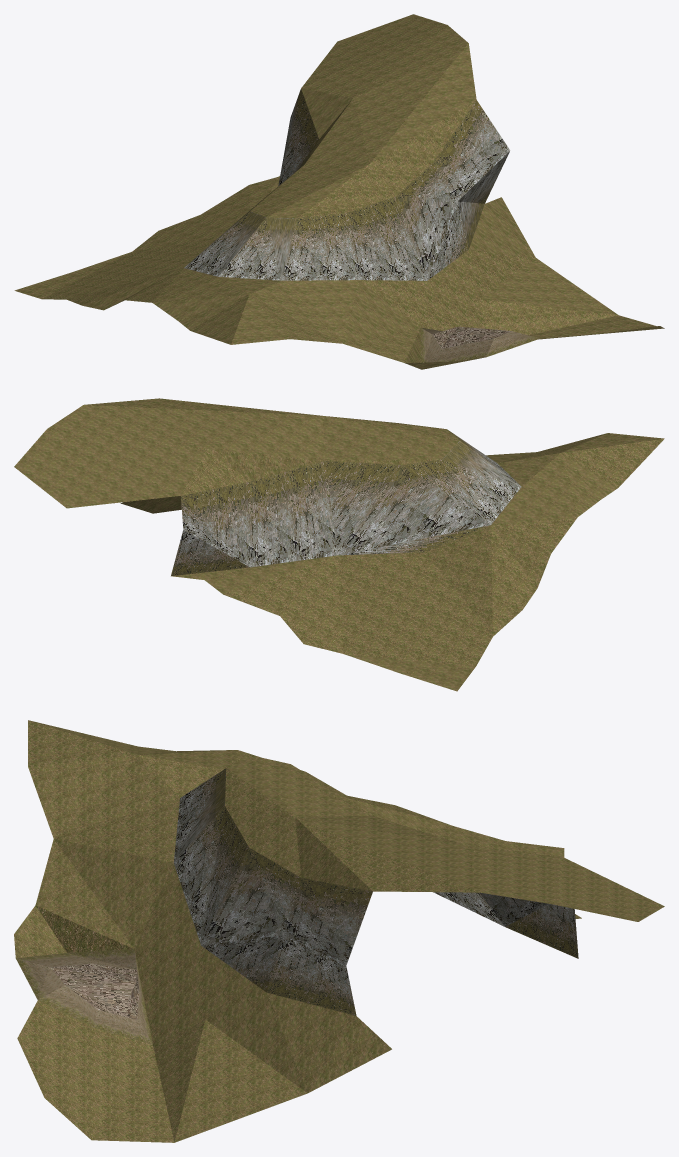
Rendered from lodcunts13.obj.
3 renders of one model, top to bottom at view 1: azimuth 30°, elevation 25°; view 2: azimuth 150°, elevation 25°; view 3: azimuth 270°, elevation 25°, orthographic. The views are drawn at different scales.
Parts seen in each view (by area): view 1: LODcunts13; view 2: LODcunts13; view 3: LODcunts13.
Part boxes in pixels (x1,y1,x2,y2): LODcunts13: (14, 14, 664, 369); LODcunts13: (14, 398, 664, 691); LODcunts13: (14, 720, 664, 1142).
Bounding box in the file's own units: 245 × 95.98 × 242.
Materials: 4 (4 with a texture image).
